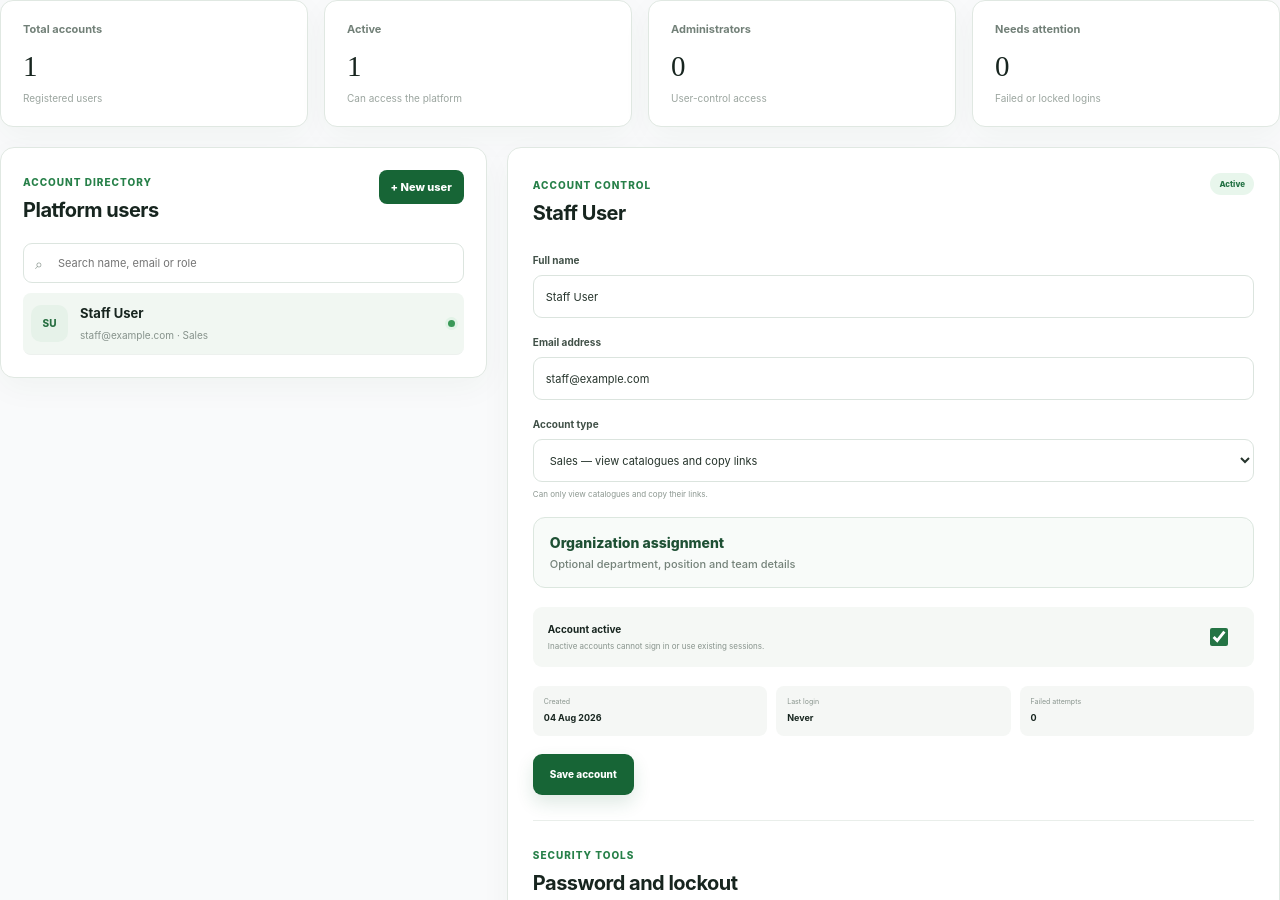
Test: user password visibility › opens a clean create-user form from the New user button
Expected: the heading "Staff User" is shown, [533,201,626,225]
Click the button "+ New user". click: click(421, 187)
box: [378,170,464,204]
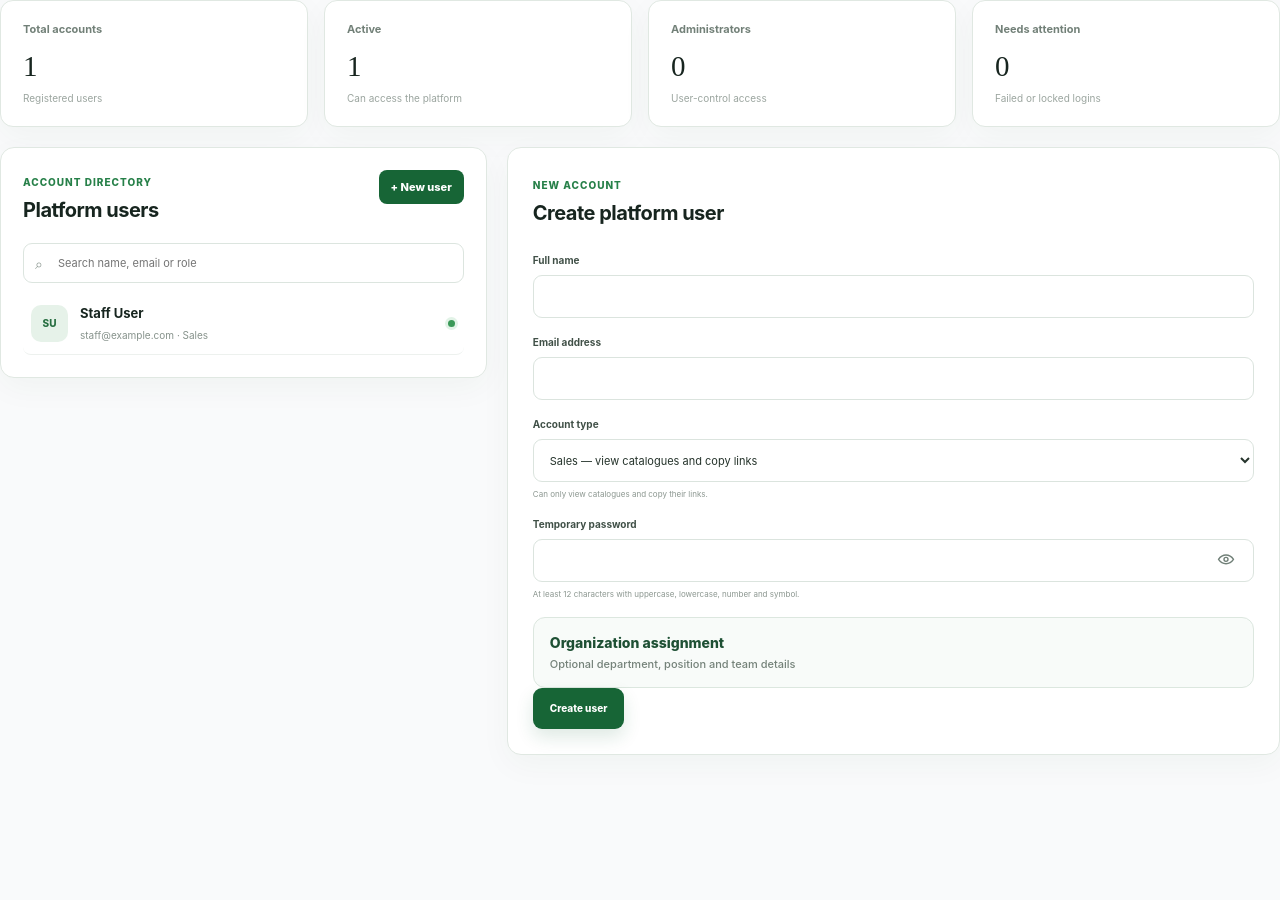
Expected: the button "Create user" is enabled, [533,688,624,728]
Expected: the heading "Create platform user" is shown, [533,198,724,228]
Expected: the field labelled "Full name" is empty, [533,275,1254,318]
Select "Customer — view published catalogues" in the dropdown labelled "Account type". click: (893, 460)
box: [533,439,1254,482]
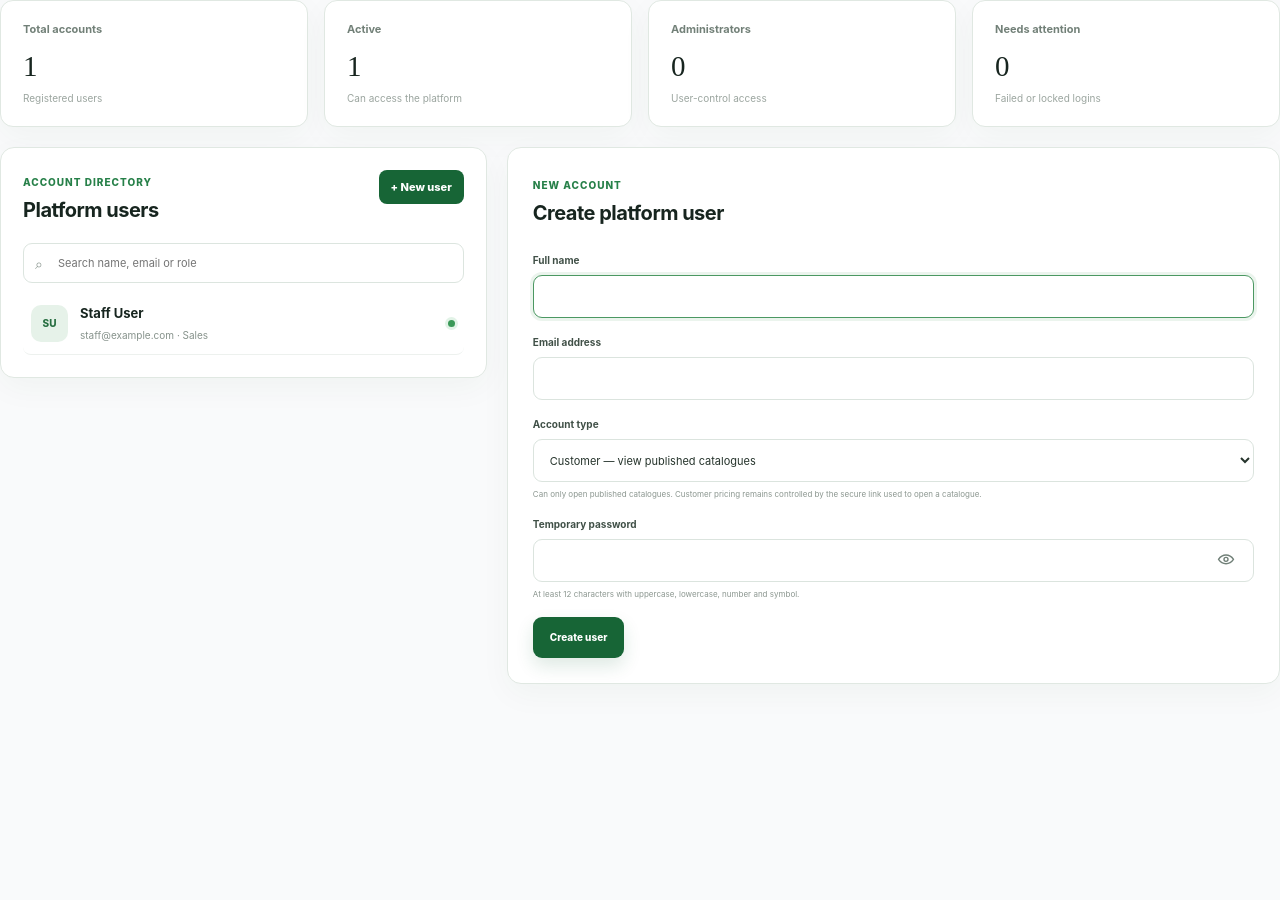
Expected: the text "Customer pricing remains controlled by the secure link" is shown, [533,489,982,499]
Expected: the heading "Organization assignment" is gone
